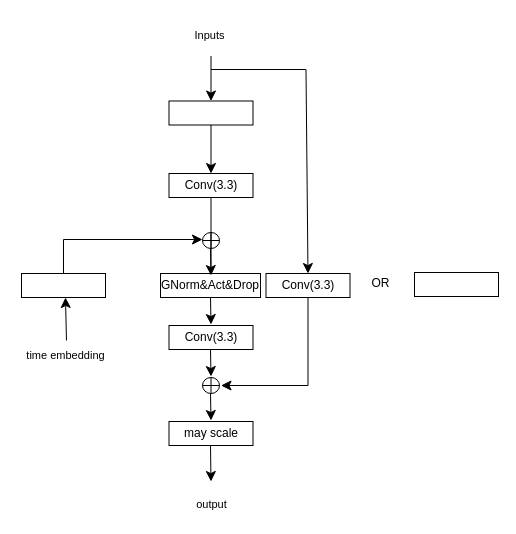
This 516x534 diagram has some shape labels left out. Each missing label, with the centre of its shape:
Act&Dense: [63,285]
GNorm&Act: [210,112]
NIN: [456,284]
